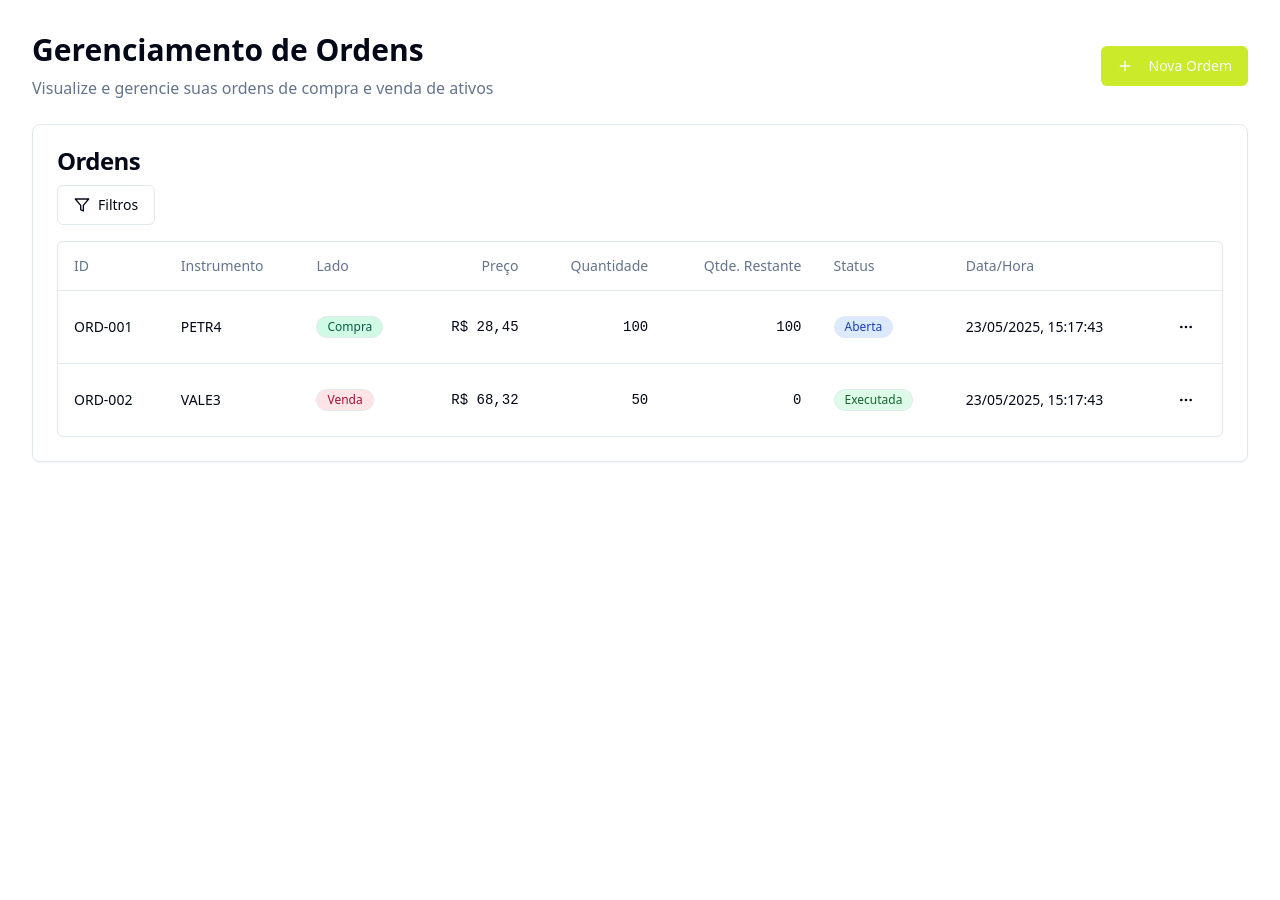
Order Flow Integration › should display orders and handle order details flow
Expected: the heading "Gerenciamento de Ordens" is shown, [32, 29, 424, 70]
Expected: the text "ORD-001" is shown, [58, 290, 165, 363]
What coordinates should you click on to do the following:
click the button named "abrir menu" in the row of "ORD-001"
I would click on:
 (1186, 326)
Its box is [1166, 306, 1206, 346].
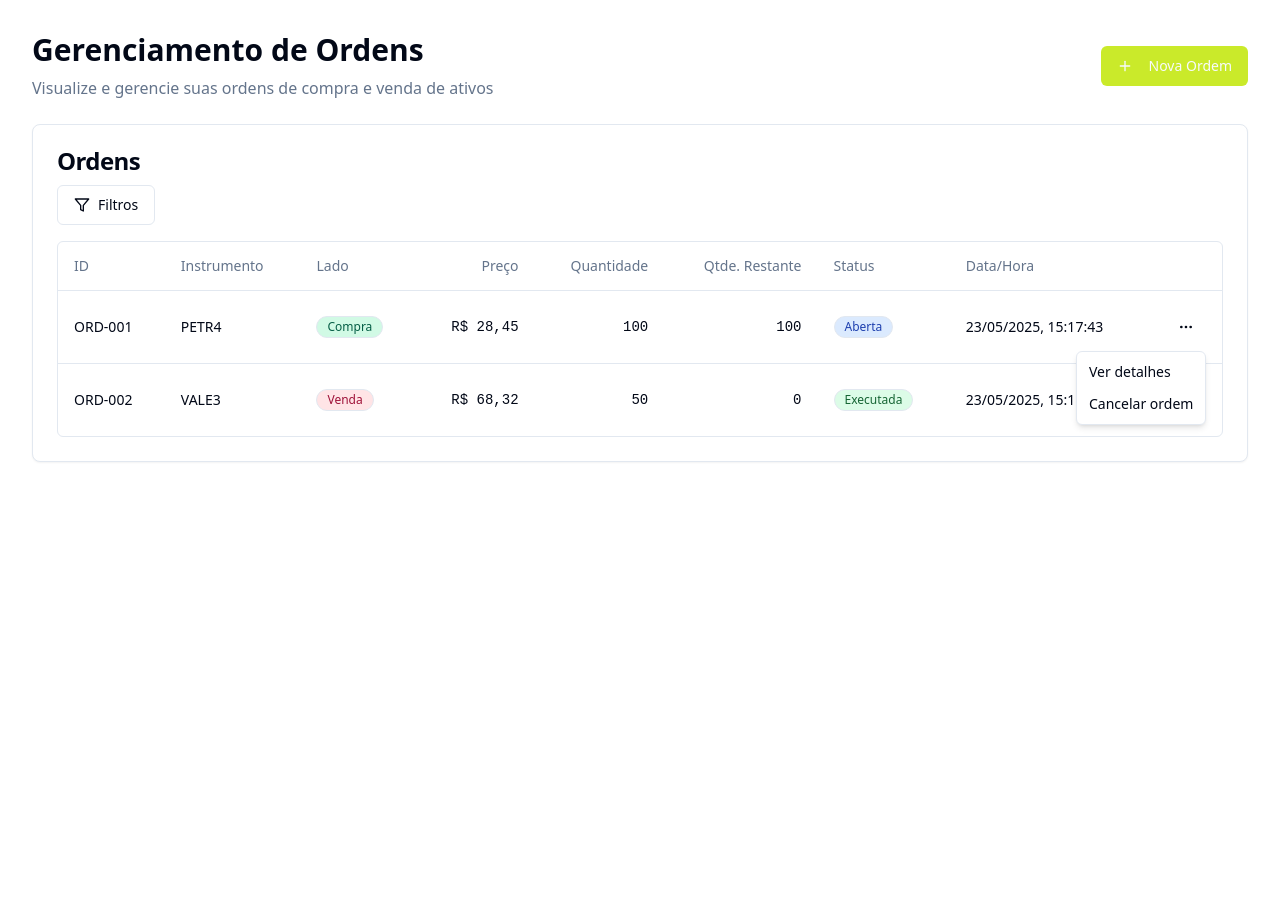
What coordinates should you click on to do the following:
click the menu item "Ver detalhes"
I would click on:
 (1130, 372)
Its box is [1089, 362, 1171, 381].
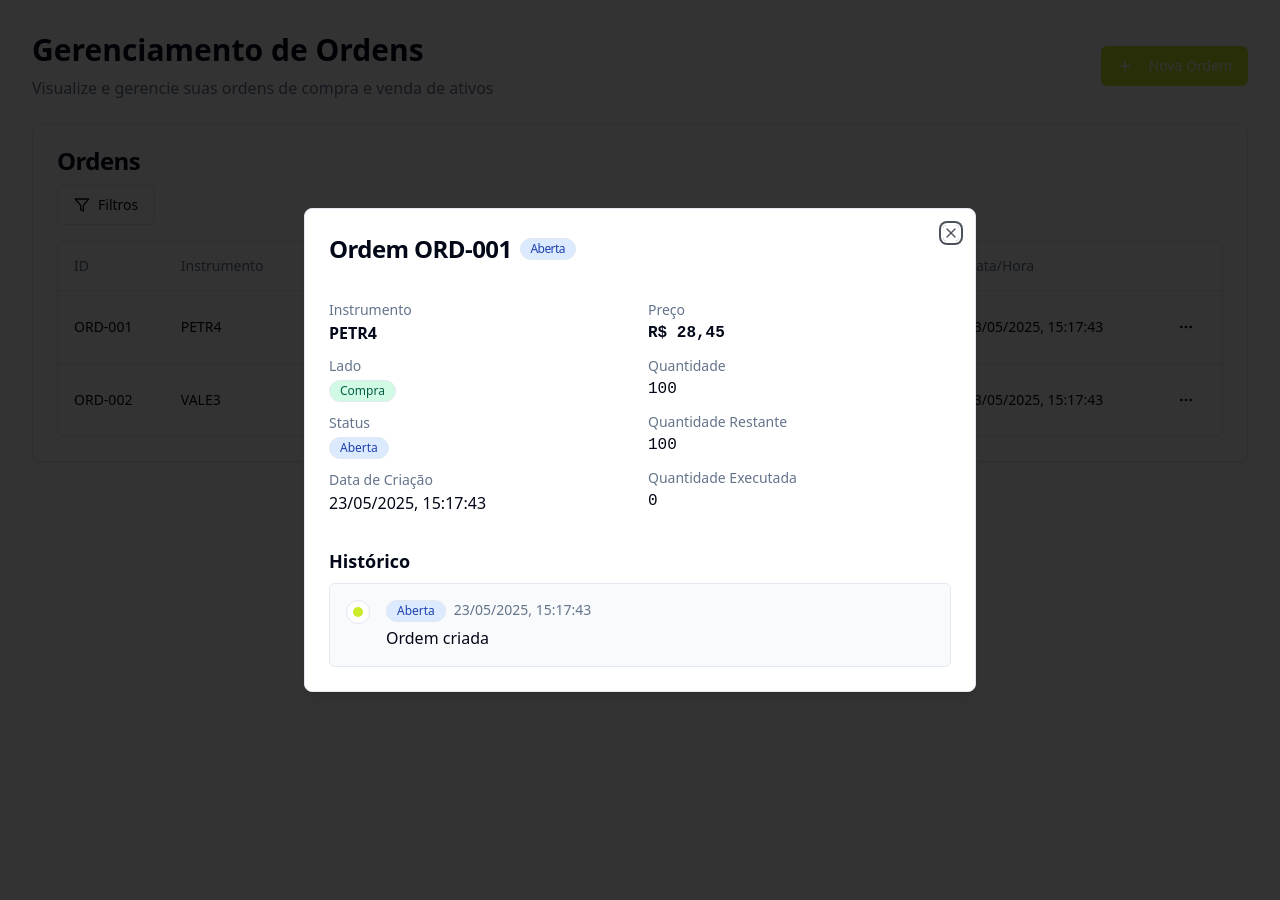
Expected: the heading "Ordem ORD-001 Aberta" is shown, [329, 232, 576, 265]
Expected: the heading "Histórico" is shown, [329, 549, 410, 573]
Expected: the text "Ordem criada" is shown, [386, 627, 489, 649]
